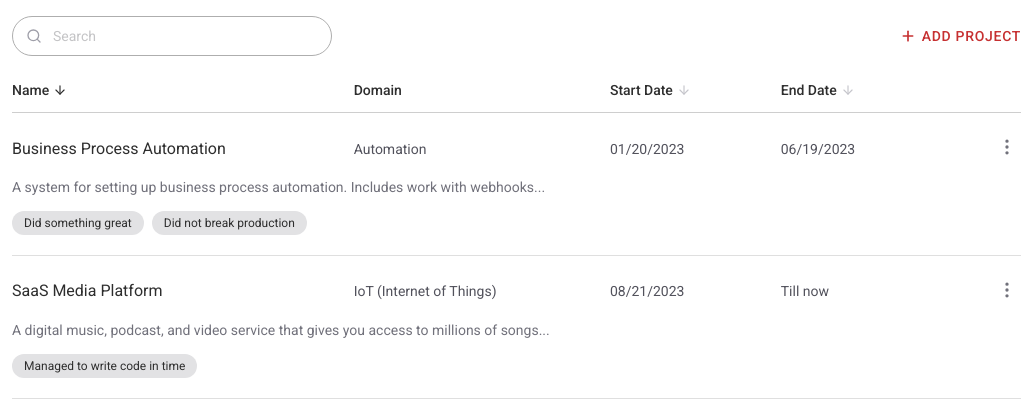
Test: CVProjectsView Component › filters projects by search term
In the field named "Search projects": x=172, y=36 [12, 16, 332, 56], type "Automation"
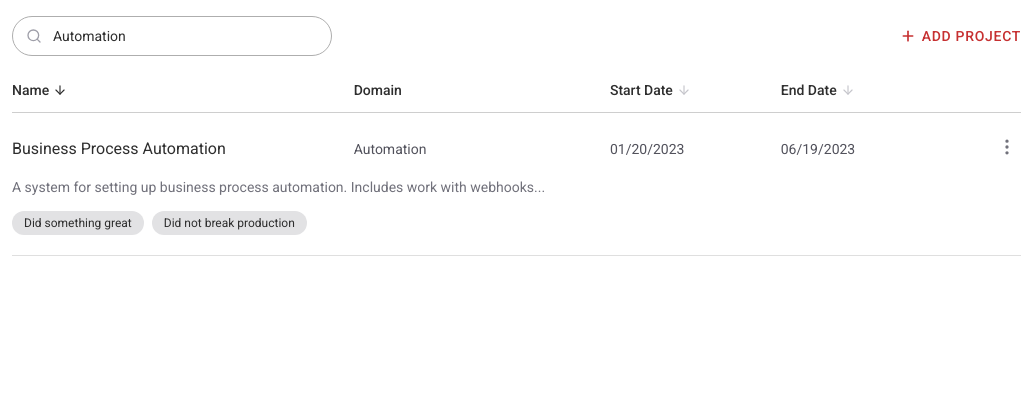
Expected: the text "Business Process Automation" is shown, [12, 138, 226, 158]
Expected: the text "SaaS Media Platform" is gone
